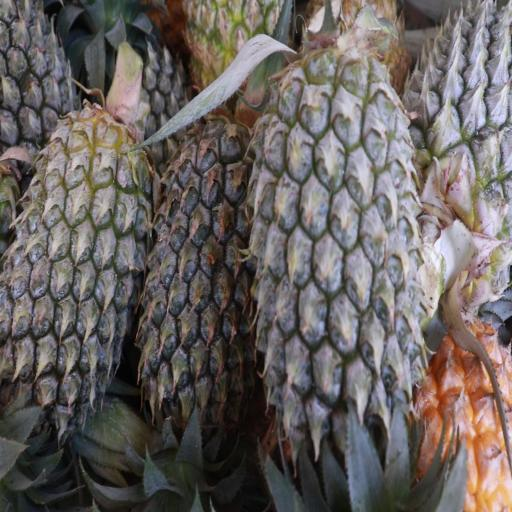------------------------------: (183, 0, 277, 102)
